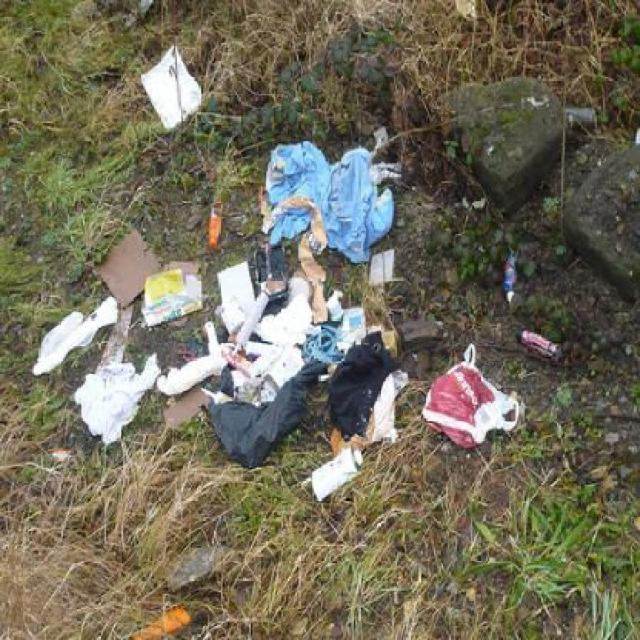garbage: (56, 237, 603, 456), (125, 45, 420, 321), (94, 506, 298, 638), (268, 428, 420, 506), (557, 80, 611, 140)
